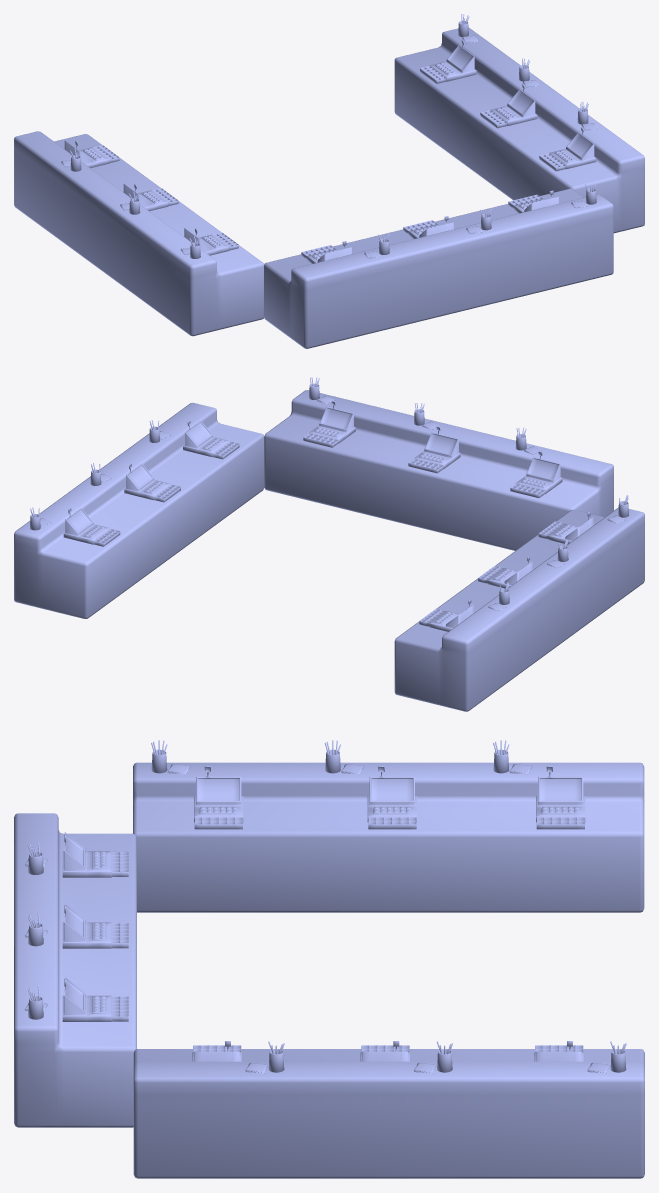
File: kasa.fbx
3 renders of one model, top to bottom at view 1: azimuth 30°, elevation 25°; view 2: azimuth 150°, elevation 25°; view 3: azimuth 270°, elevation 25°, orthographic. The views are drawn at different scales.
Visible parts, largest first — view 1: workbench; view 2: workbench; view 3: workbench.
Part boxes in pixels (<box>): workbench: <box>14,14,644,348</box>; workbench: <box>14,377,644,711</box>; workbench: <box>14,740,644,1178</box>.
Size of the model in its own units: 1673 by 316 by 1404.
